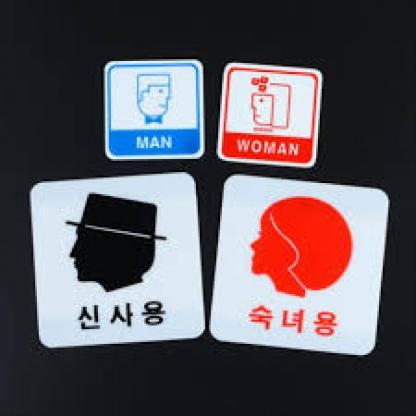toilet: (252, 194, 353, 306), (69, 192, 171, 300), (245, 74, 295, 134), (134, 71, 175, 127)
